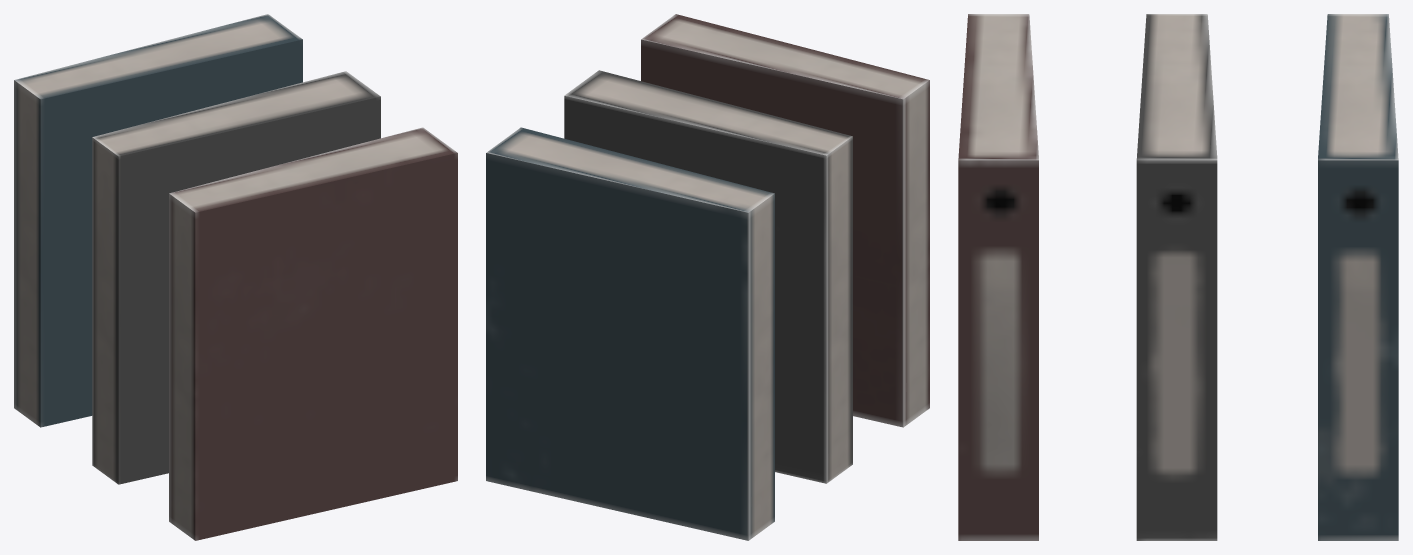
The model's file is bookbind.fbx.
3 views of the same model, side by side, from view 1: azimuth 30°, elevation 25°; view 2: azimuth 150°, elevation 25°; view 3: azimuth 270°, elevation 25° (orthographic). The views are drawn at different scales.
Visible parts, largest first — view 1: Binder_1.001, Binder_3.001, Binder_2.001; view 2: Binder_3.001, Binder_2.001, Binder_1.001; view 3: Binder_2.001, Binder_1.001, Binder_3.001.
Boxes of the visible parts, x1,y1,x2,y2 form: Binder_1.001: (169,127,457,540); Binder_3.001: (14,14,302,427); Binder_2.001: (92,71,380,484); Binder_3.001: (486,127,774,540); Binder_2.001: (564,70,852,483); Binder_1.001: (641,14,929,427); Binder_2.001: (1136,14,1217,540); Binder_1.001: (958,14,1038,540); Binder_3.001: (1318,14,1398,540).
Size of the model in its own units: 26.77 by 32.52 by 34.07.
